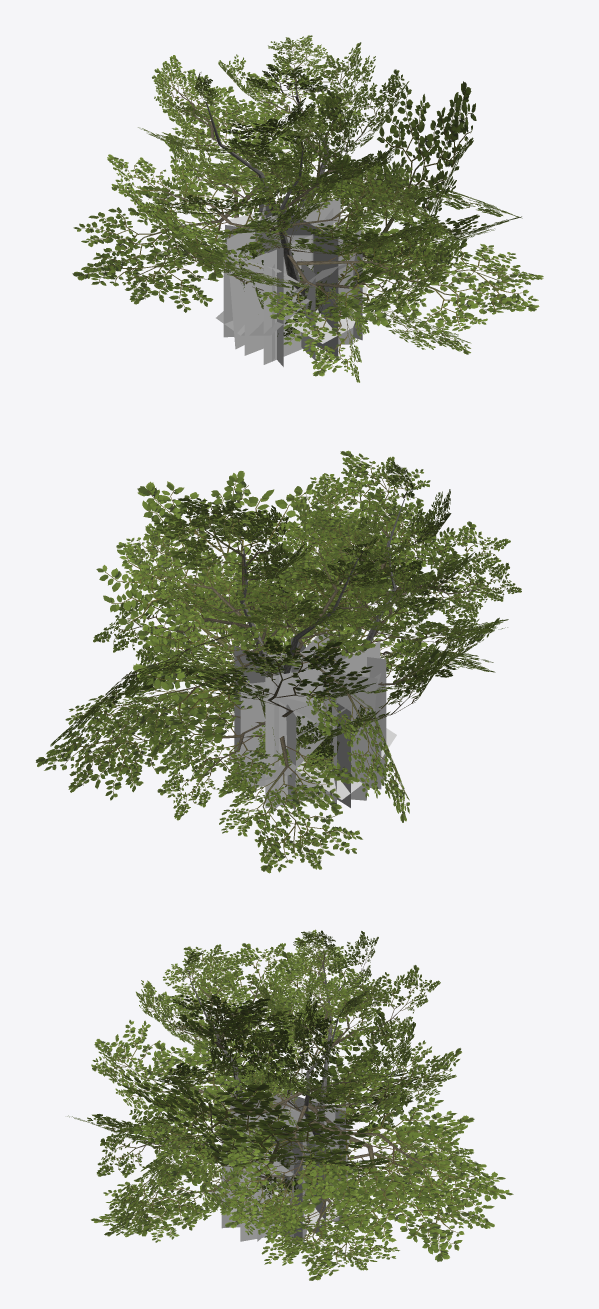
File: 1_Bush.fbx
3 renders of one model, top to bottom at view 1: azimuth 30°, elevation 25°; view 2: azimuth 150°, elevation 25°; view 3: azimuth 270°, elevation 25°, orthographic. The views are drawn at different scales.
Parts seen in each view (by area): view 1: Bush-05, Bush-03, Bush-04, Bush-01; view 2: Bush-05, Bush-04, Bush-02, Bush-01, Bush-03; view 3: Bush-05, Bush-04, Bush-03.
Boxes of the visible parts, bbox=[...] form: Bush-05: bbox=[72, 35, 543, 382]; Bush-03: bbox=[223, 198, 367, 364]; Bush-04: bbox=[214, 204, 361, 366]; Bush-01: bbox=[238, 232, 341, 336]; Bush-05: bbox=[36, 450, 521, 873]; Bush-04: bbox=[230, 637, 396, 809]; Bush-02: bbox=[251, 663, 340, 773]; Bush-01: bbox=[250, 705, 365, 790]; Bush-03: bbox=[241, 624, 366, 809]; Bush-05: bbox=[67, 929, 513, 1280]; Bush-04: bbox=[213, 1091, 353, 1241]; Bush-03: bbox=[208, 1089, 347, 1245].
Size of the model in its own units: 423 by 233 by 463.
